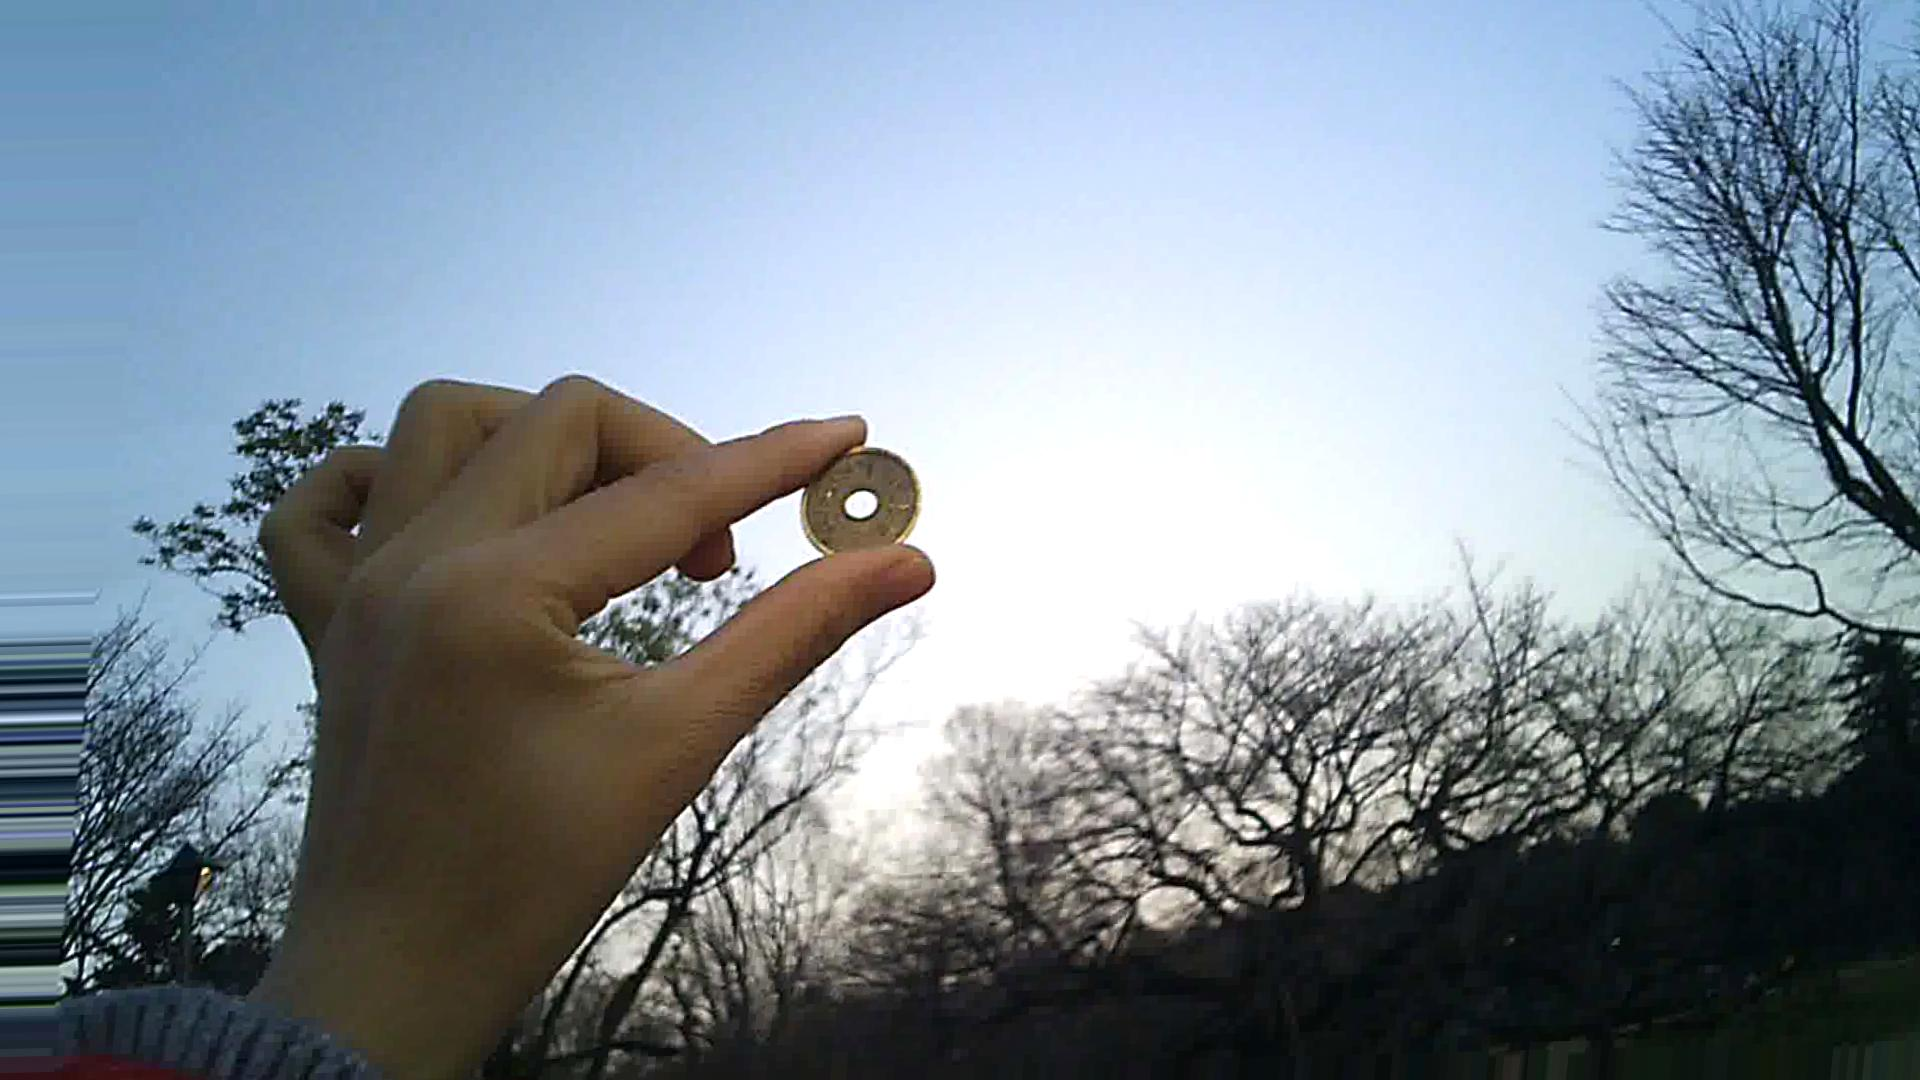5 Yen: (796, 419, 924, 568)
